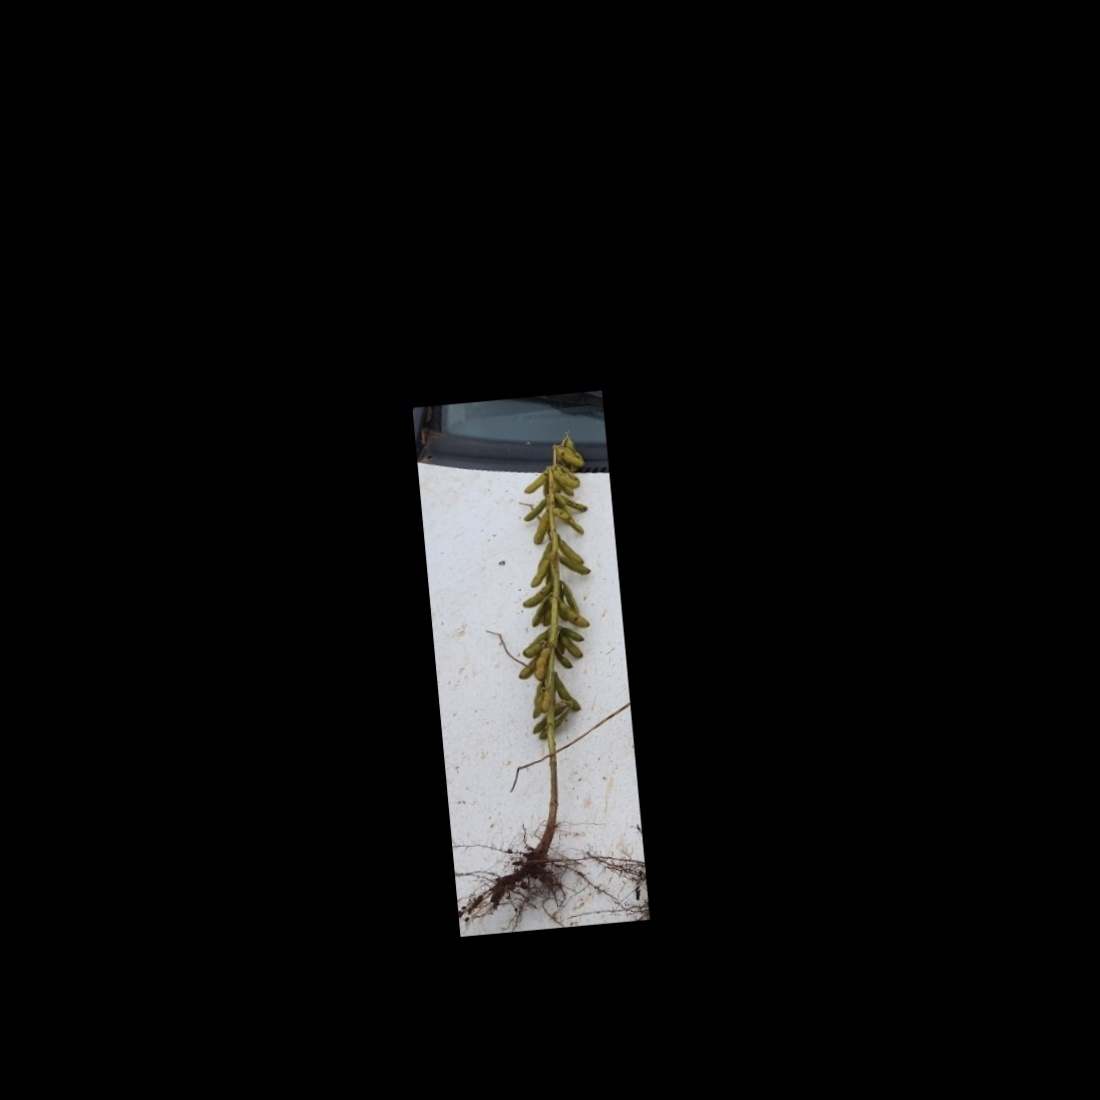pod: (554, 669, 582, 714), (529, 510, 554, 549), (533, 645, 555, 680), (517, 471, 549, 495), (527, 560, 552, 588), (552, 647, 573, 671)
soy: (443, 423, 643, 908)
